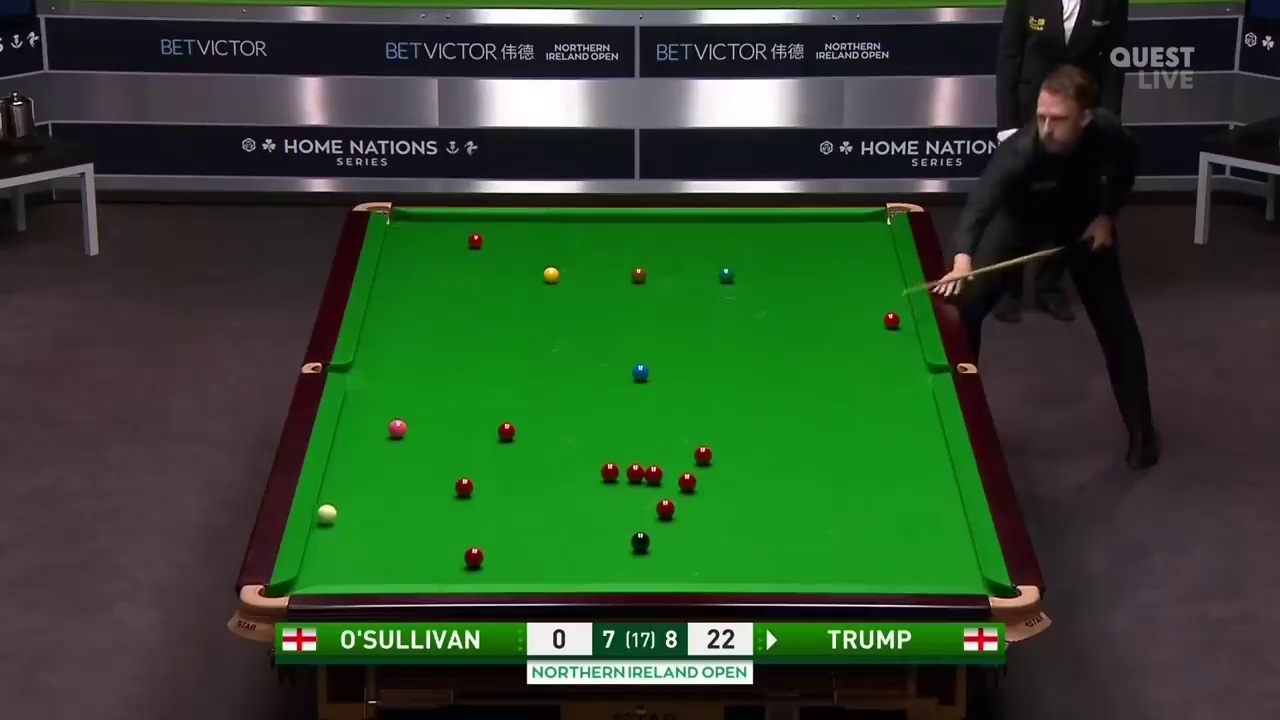ball: (388, 418, 409, 438), (655, 499, 676, 519), (678, 471, 698, 491), (601, 464, 622, 483), (693, 447, 712, 468), (315, 506, 335, 525), (454, 478, 472, 499), (496, 422, 515, 441), (633, 532, 650, 552), (465, 549, 482, 567), (629, 265, 645, 284), (717, 266, 735, 282), (630, 364, 646, 382), (644, 467, 662, 483), (541, 266, 558, 282), (881, 310, 897, 326), (468, 233, 481, 249)
